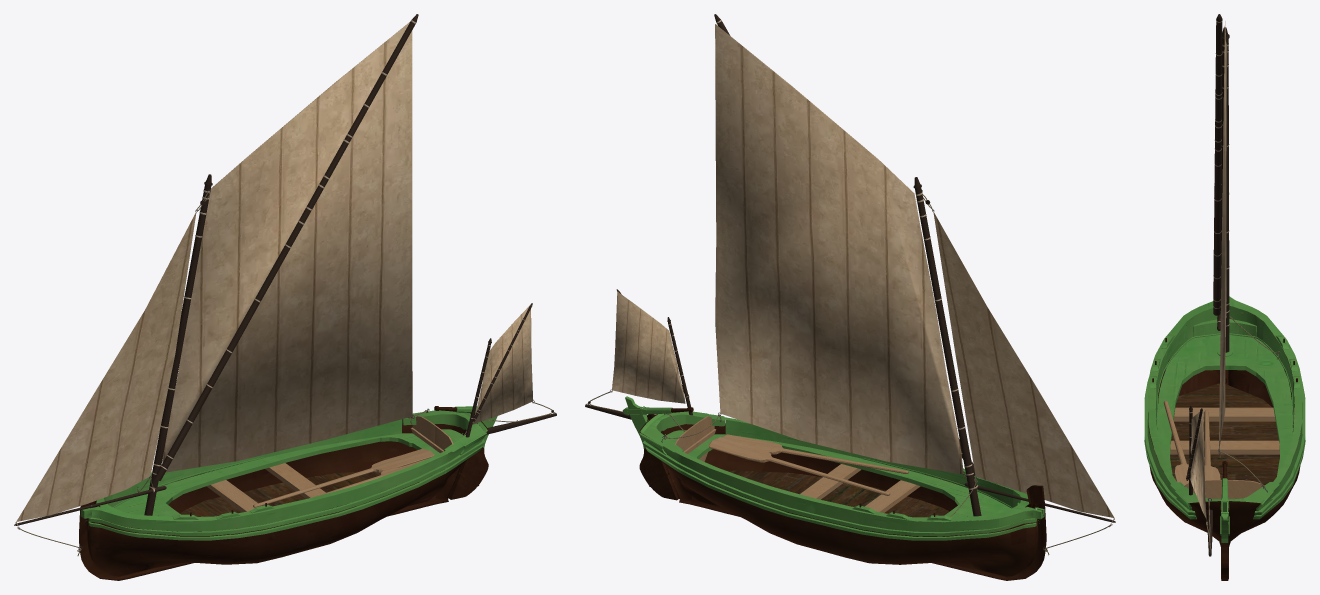
File: catraio.glb
3 views of the same model, side by side, from view 1: azimuth 30°, elevation 25°; view 2: azimuth 150°, elevation 25°; view 3: azimuth 270°, elevation 25° (orthographic). The views are drawn at different scales.
Visible parts, largest first — view 1: Vela, Vela.001, Casco, Casco.008, Casco.001, Vela.002, Chao05, Mastro_part4, Casco.012, Mastro_part1, Plane, Casco.013 (+5 smaller); view 2: Vela, Vela.001, Casco, Vela.002, Casco.008, Casco.001, Chao05, Casco.012, Plane, Mastro_part1, Paddle.001, Casco.013 (+4 smaller); view 3: Chao05, Plane, Casco, Casco.012, Assentos, Mastro_part4, Vela, Casco.013, Casco.001, Mastro_part1, Paddle.001, Vela.002 (+9 smaller).
Part boxes in pixels (bbox=[...]): Vela: bbox=[162, 21, 412, 472]; Vela.001: bbox=[16, 212, 196, 521]; Casco: bbox=[87, 413, 488, 576]; Casco.008: bbox=[80, 446, 464, 531]; Casco.001: bbox=[85, 439, 485, 540]; Vela.002: bbox=[472, 305, 533, 424]; Chao05: bbox=[114, 433, 439, 516]; Mastro_part4: bbox=[154, 14, 418, 480]; Casco.012: bbox=[91, 410, 486, 521]; Mastro_part1: bbox=[144, 192, 209, 515]; Plane: bbox=[180, 471, 380, 516]; Casco.013: bbox=[104, 419, 401, 507]; Vela: bbox=[715, 24, 963, 474]; Vela.001: bbox=[933, 212, 1114, 517]; Casco: bbox=[639, 414, 1038, 576]; Vela.002: bbox=[612, 291, 685, 403]; Casco.008: bbox=[663, 446, 1044, 531]; Casco.001: bbox=[642, 440, 1039, 540]; Chao05: bbox=[687, 434, 1011, 517]; Casco.012: bbox=[641, 411, 1036, 522]; Plane: bbox=[727, 470, 949, 517]; Mastro_part1: bbox=[916, 194, 981, 516]; Paddle.001: bbox=[708, 434, 908, 495]; Casco.013: bbox=[725, 420, 1020, 507]; Chao05: bbox=[1157, 335, 1292, 483]; Plane: bbox=[1152, 383, 1293, 485]; Casco: bbox=[1148, 315, 1300, 550]; Casco.012: bbox=[1148, 296, 1302, 503]; Assentos: bbox=[1154, 407, 1297, 454]; Mastro_part4: bbox=[1213, 14, 1222, 315]; Vela: bbox=[1219, 21, 1227, 448]; Casco.013: bbox=[1155, 306, 1294, 432]; Casco.001: bbox=[1144, 378, 1305, 519]; Mastro_part1: bbox=[1220, 45, 1229, 352]; Paddle.001: bbox=[1163, 401, 1220, 485]; Vela.002: bbox=[1190, 409, 1206, 518].
Bounding box in the file's own units: 1346 × 1188 × 320.
9 materials, 9 textured.
